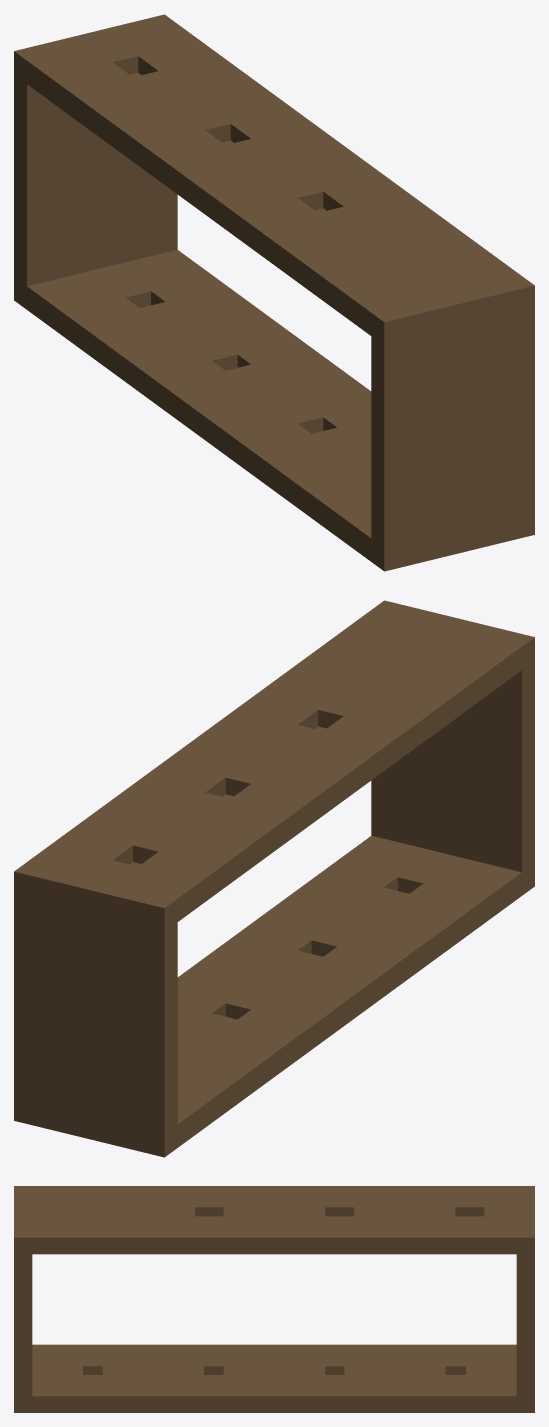
File: Estante_escobas.fbx
The picture shows the model from 3 angles, top to bottom: view 1: azimuth 30°, elevation 25°; view 2: azimuth 150°, elevation 25°; view 3: azimuth 270°, elevation 25°; orthographic projection. The views are drawn at different scales.
Visible parts, largest first — view 1: Cubo; view 2: Cubo; view 3: Cubo.
Boxes of the visible parts, x1,y1,x2,y2 form: Cubo: (14,14,534,571); Cubo: (14,600,534,1157); Cubo: (14,1186,534,1412).
Bounding box in the file's own units: 554 × 877 × 2362.
